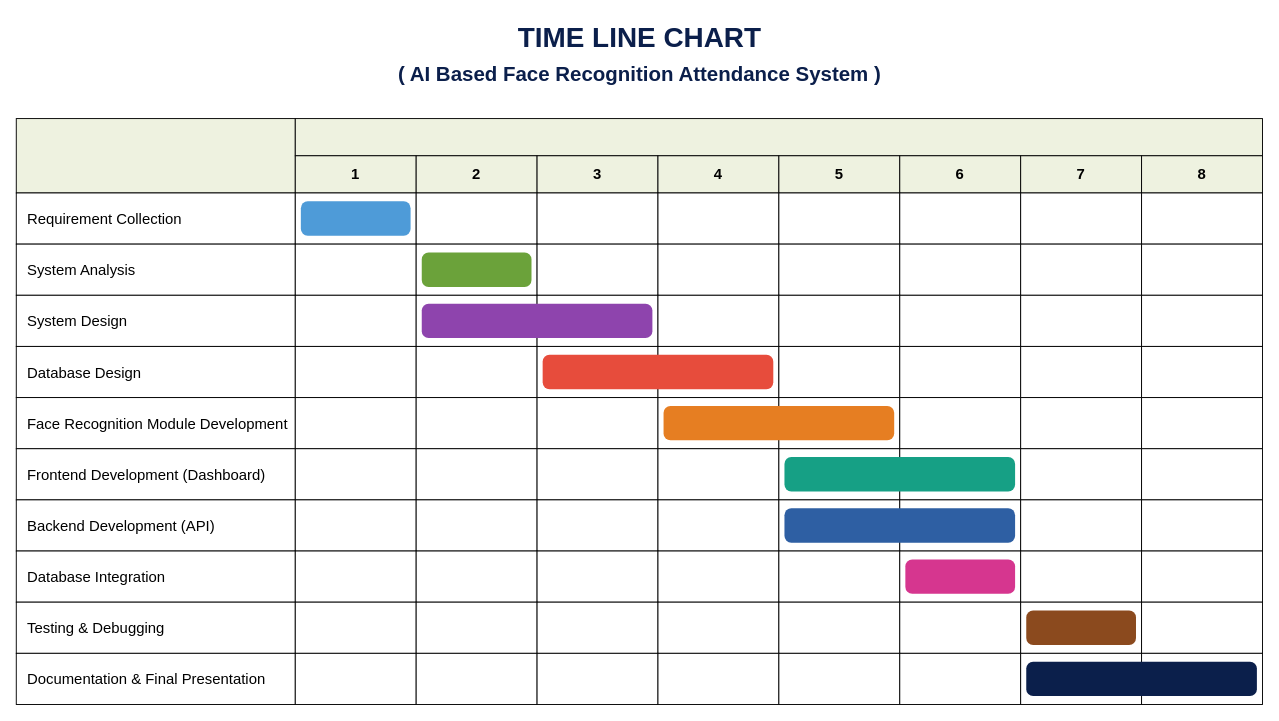
Some shapes in this 1279 by 721 pixel diagram are drawn without their labels. Here are the shapes that lost their labels. From the top down, the box of each, then its label:
(15, 118, 295, 193): Activities
(294, 118, 1262, 156): Weeks
